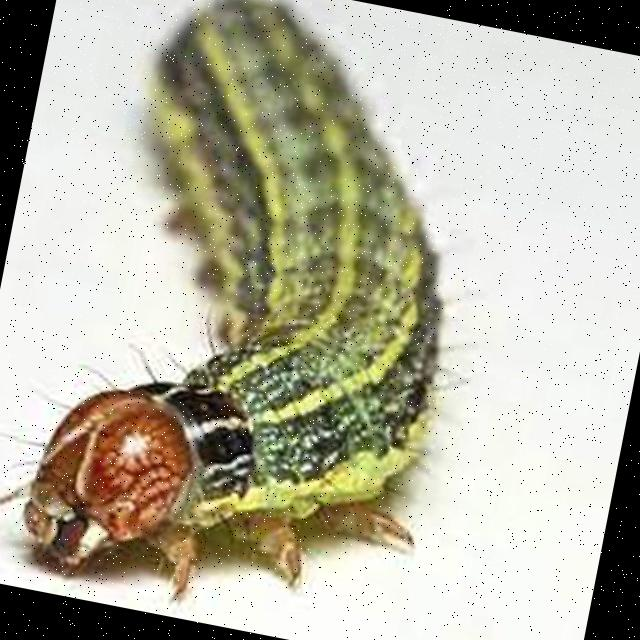worm: (1, 1, 518, 640)
